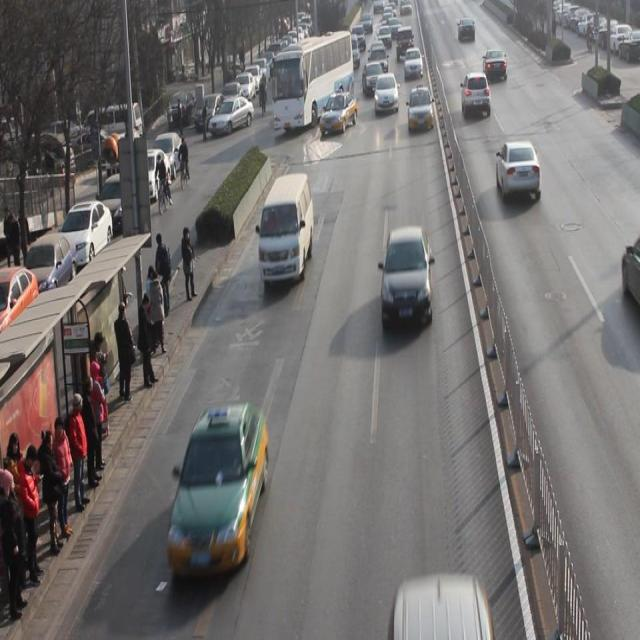car: (168, 403, 268, 574), (381, 227, 434, 325), (496, 138, 541, 199), (318, 90, 358, 136), (461, 70, 492, 118), (407, 86, 435, 132), (374, 74, 400, 118), (362, 61, 387, 97), (484, 47, 508, 83), (403, 45, 424, 78)
truck: (260, 172, 314, 283)
van: (272, 31, 354, 131)
